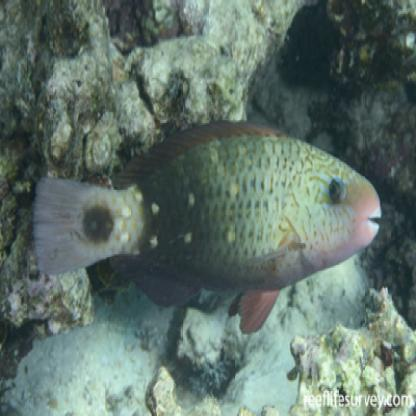Scaridae -Parrotfishes-: (29, 115, 384, 336)
